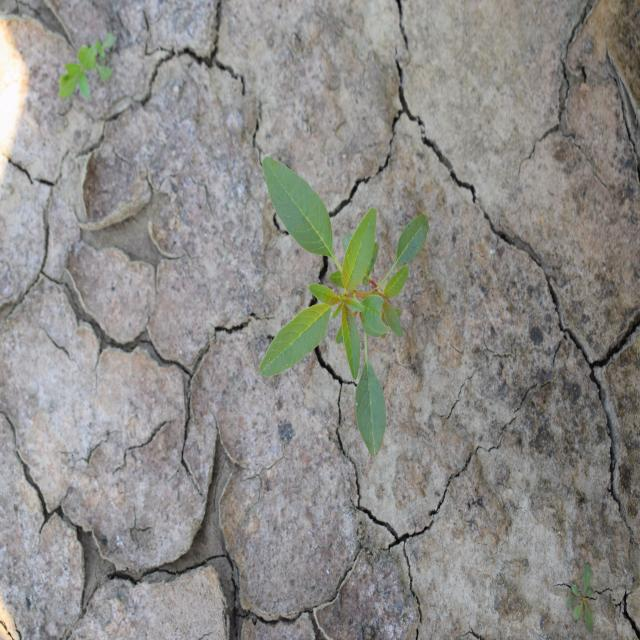Carpetweed: (564, 562, 596, 634)
Waterhemp: (258, 154, 429, 459)
